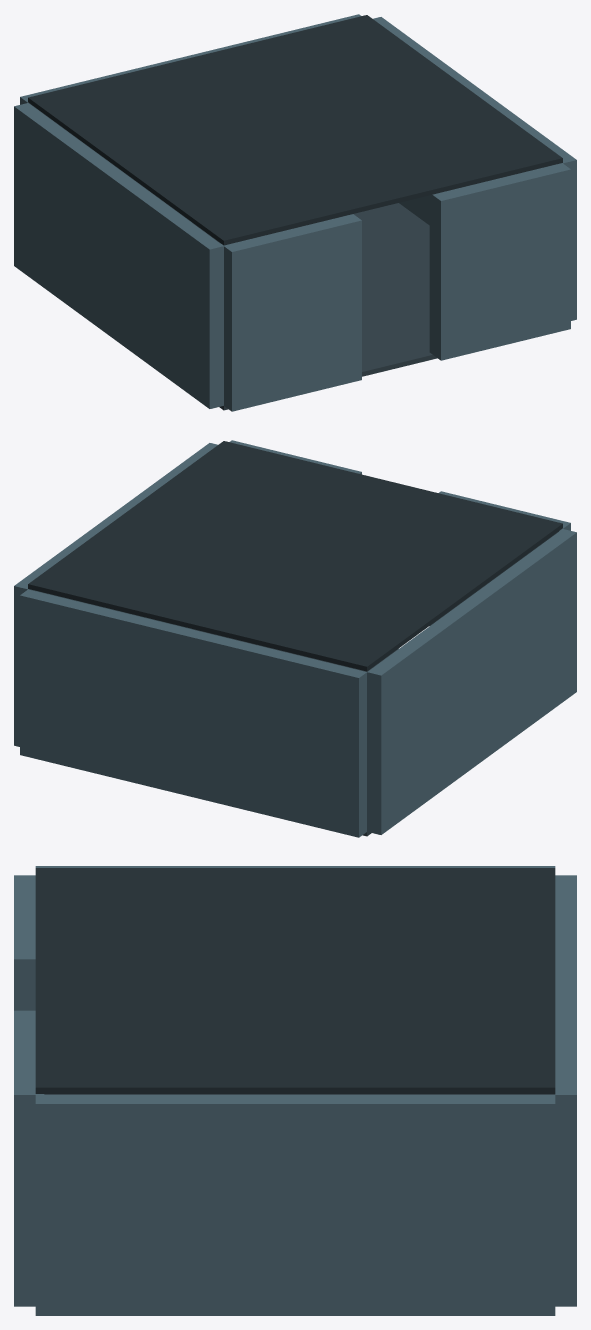
Rendered from room_shell.glb.
The picture shows the model from 3 angles, top to bottom: view 1: azimuth 30°, elevation 25°; view 2: azimuth 150°, elevation 25°; view 3: azimuth 270°, elevation 25°; orthographic projection. The views are drawn at different scales.
Parts seen in each view (by area): view 1: room_shell; view 2: room_shell; view 3: room_shell.
Boxes of the visible parts, box(x1,y1,x2,y2) form: room_shell: box(14, 14, 576, 411); room_shell: box(14, 440, 576, 837); room_shell: box(14, 866, 576, 1315).
Bounding box in the file's own units: 6.5 × 2.87 × 6.5.
Materials: 1 (1 with a texture image).
